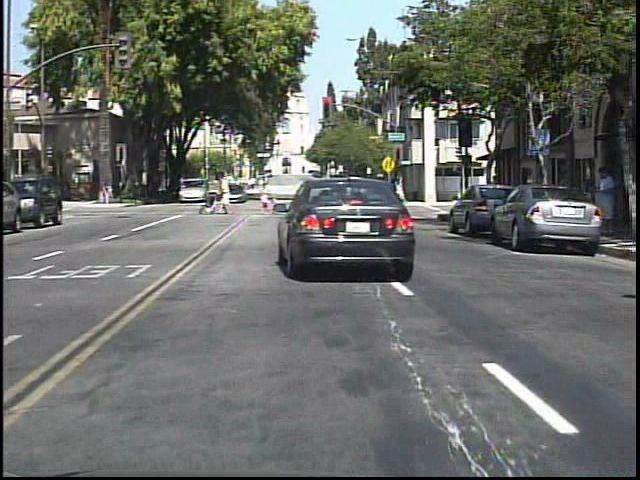person: (594, 162, 620, 217), (216, 170, 238, 217), (102, 181, 116, 207), (131, 176, 132, 206)
